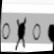correct: (46, 20, 54, 44)
no answer: (32, 19, 42, 43), (1, 20, 11, 41)
not correct: (14, 15, 28, 53)
